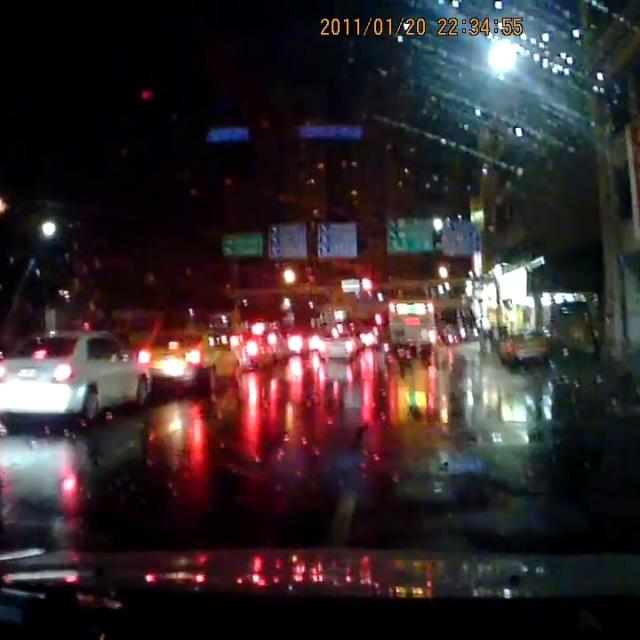Car: (0, 329, 151, 422), (141, 323, 241, 389), (499, 329, 553, 365), (239, 325, 284, 367), (315, 329, 357, 361)
